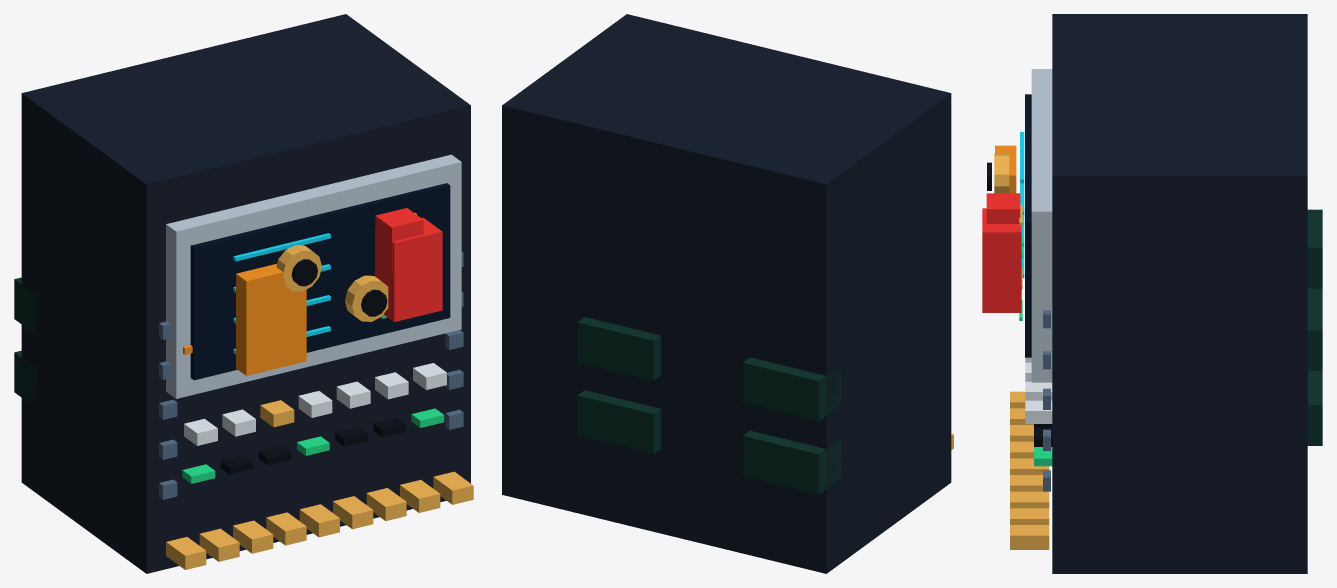
File: 83_L91_ClockThermalDriftFaultInjector.fbx
3 renders of one model, left to right at view 1: azimuth 30°, elevation 25°; view 2: azimuth 150°, elevation 25°; view 3: azimuth 270°, elevation 25°, orthographic. The views are drawn at different scales.
Parts seen in each view (by area): view 1: L91_ClockThermalDriftFaultInjector, L91_ClockThermalDriftFaultInjector_Part_0013, L91_ClockThermalDriftFaultInjector_Part_0017, L91_ClockThermalDriftFaultInjector_Part_0015; view 2: L91_ClockThermalDriftFaultInjector; view 3: L91_ClockThermalDriftFaultInjector, L91_ClockThermalDriftFaultInjector_Part_0013, L91_ClockThermalDriftFaultInjector_Part_0015.
Part boxes in pixels (x1,y1,x2,y2): L91_ClockThermalDriftFaultInjector: [14, 14, 473, 573]; L91_ClockThermalDriftFaultInjector_Part_0013: [375, 217, 442, 321]; L91_ClockThermalDriftFaultInjector_Part_0017: [345, 275, 388, 321]; L91_ClockThermalDriftFaultInjector_Part_0015: [276, 245, 321, 291]; L91_ClockThermalDriftFaultInjector: [502, 14, 953, 573]; L91_ClockThermalDriftFaultInjector: [986, 14, 1322, 573]; L91_ClockThermalDriftFaultInjector_Part_0013: [982, 208, 1021, 312]; L91_ClockThermalDriftFaultInjector_Part_0015: [994, 153, 1009, 193].
Size of the model in its own units: 108 by 123 by 95.59.
